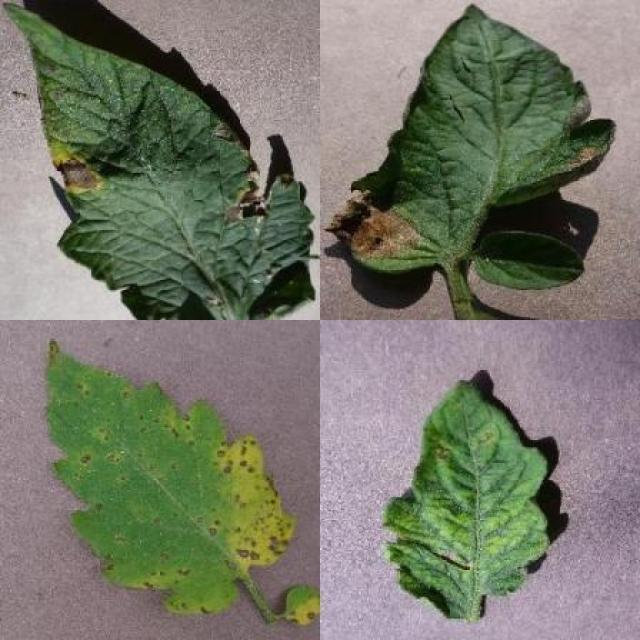Early Blight: (7, 5, 320, 321)
Late Blight: (324, 1, 616, 272)
Mosaic Virus: (384, 376, 549, 620)
Septoria: (45, 338, 296, 616)
